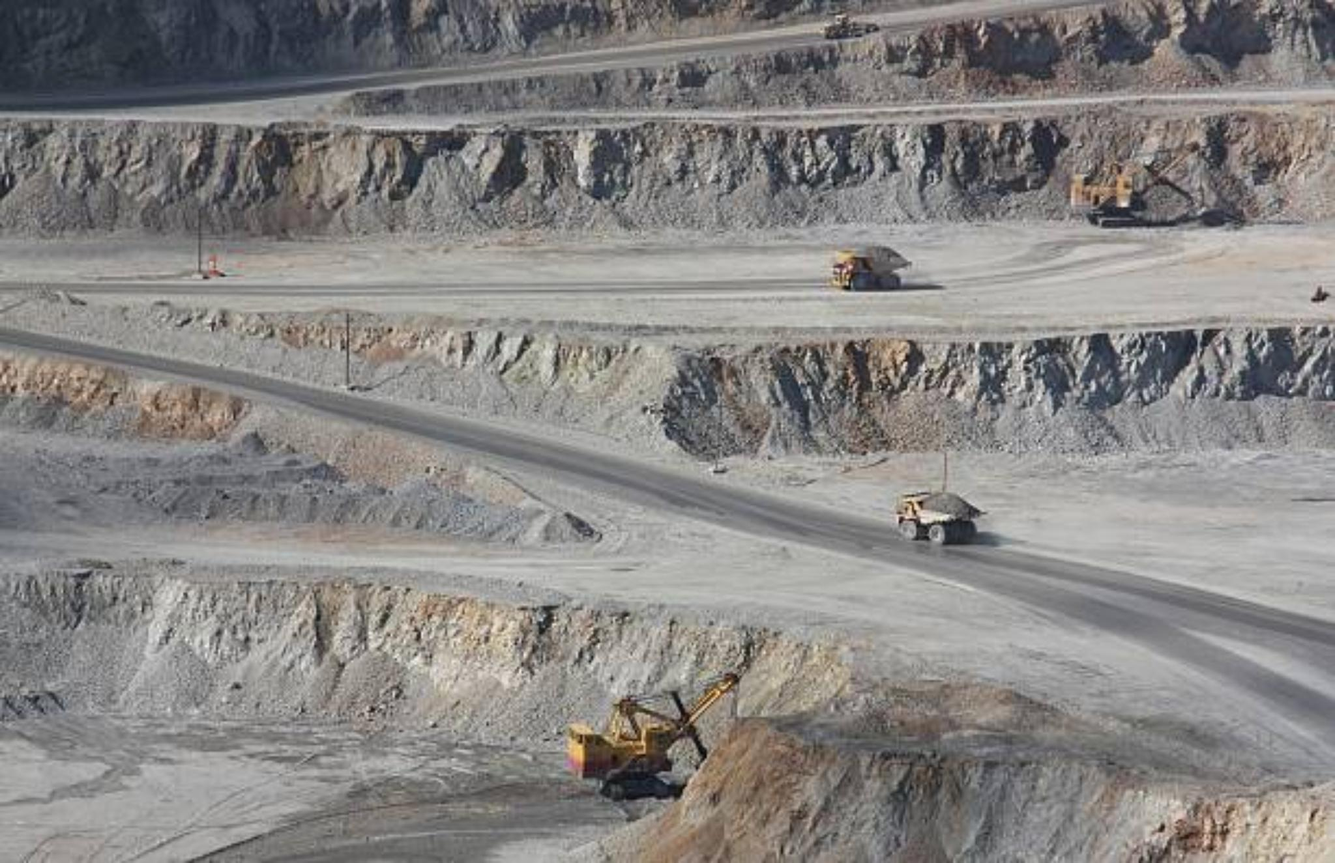benches: (0, 377, 1333, 758), (0, 224, 1333, 349)
excavator: (573, 680, 722, 804), (1071, 143, 1204, 226)
truck: (882, 487, 992, 543), (815, 250, 914, 303)
wall: (0, 109, 1333, 235), (351, 314, 1333, 460), (17, 294, 340, 381)
